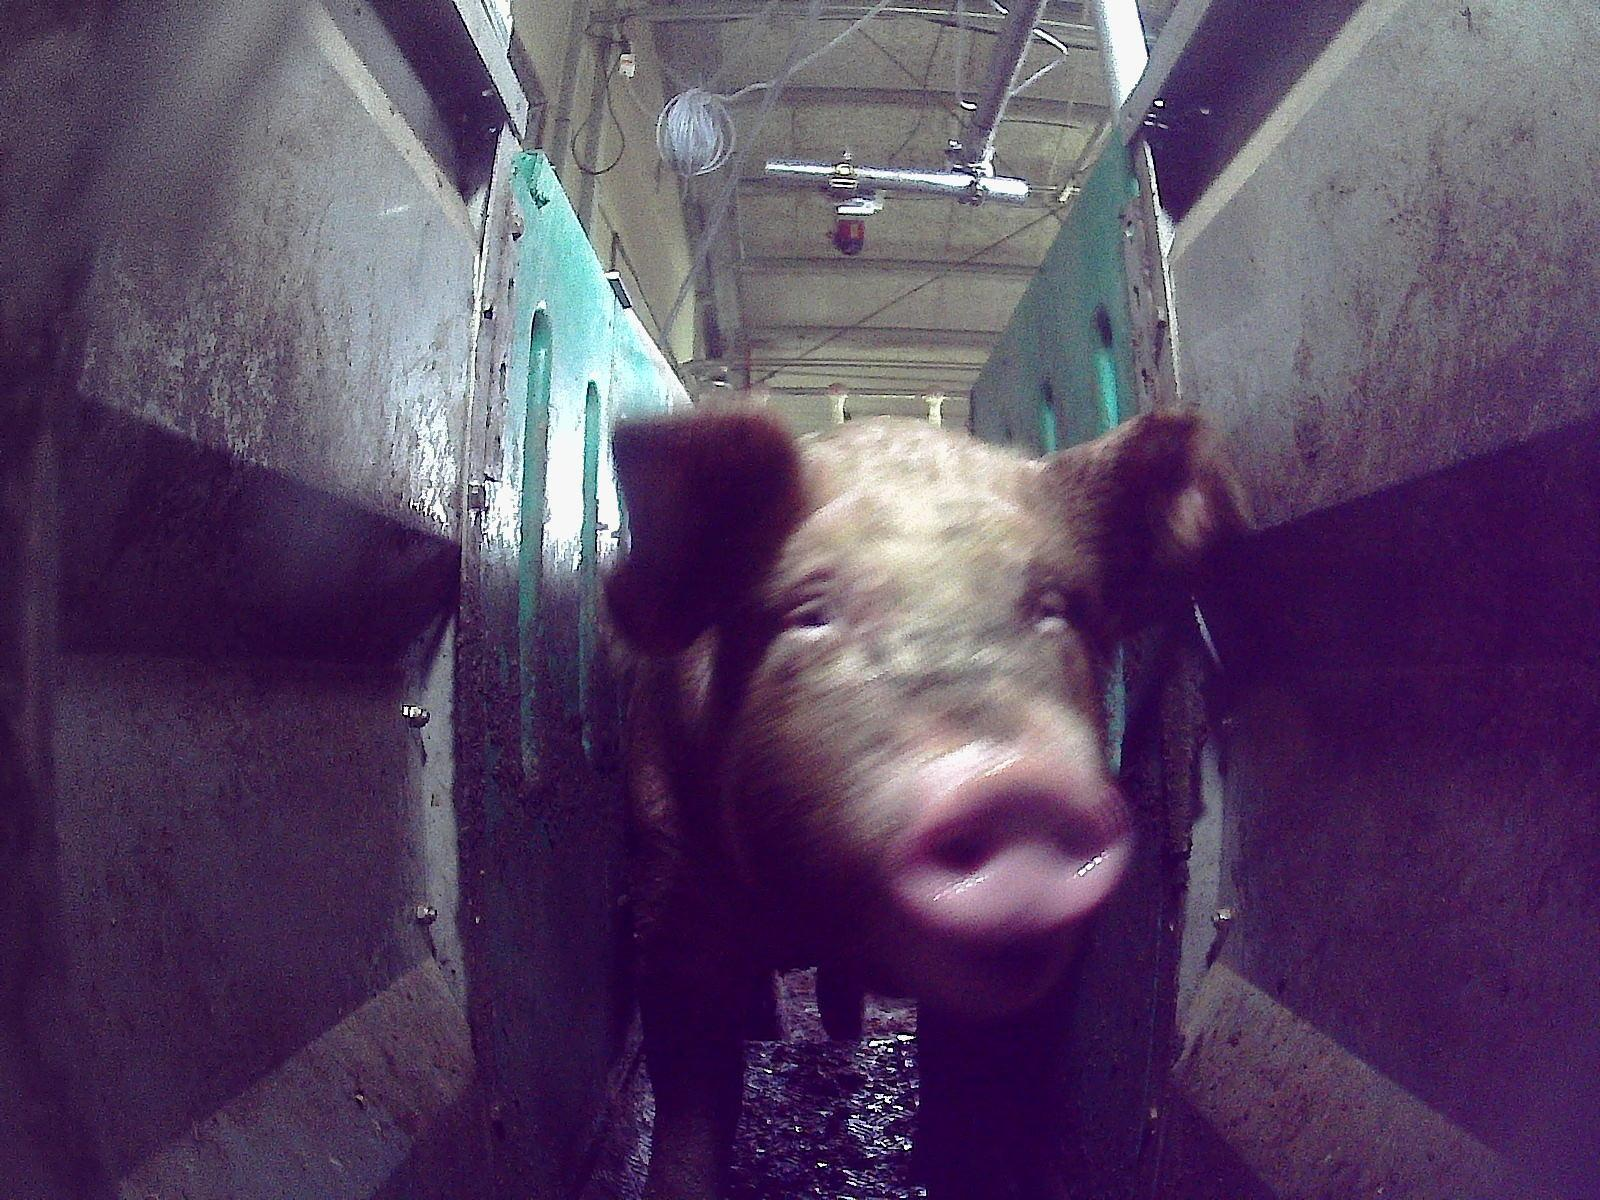Face: (720, 466, 1131, 1012)
